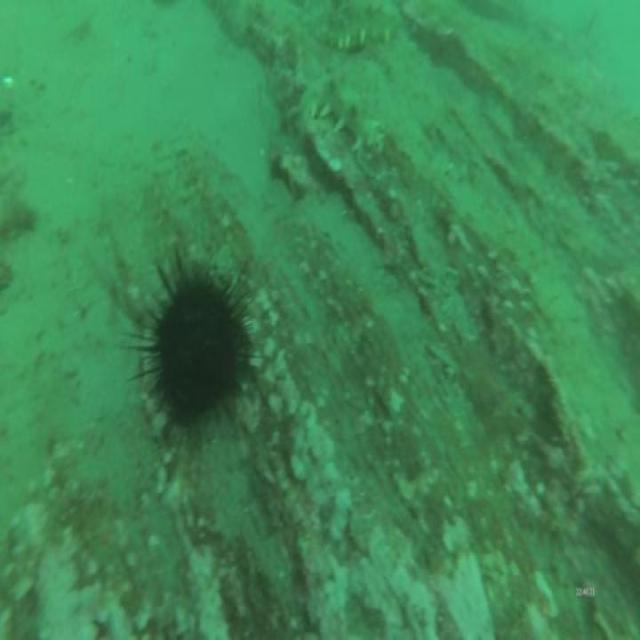echinus: (131, 242, 254, 450)
holothurian: (298, 70, 382, 169), (322, 9, 404, 58)
